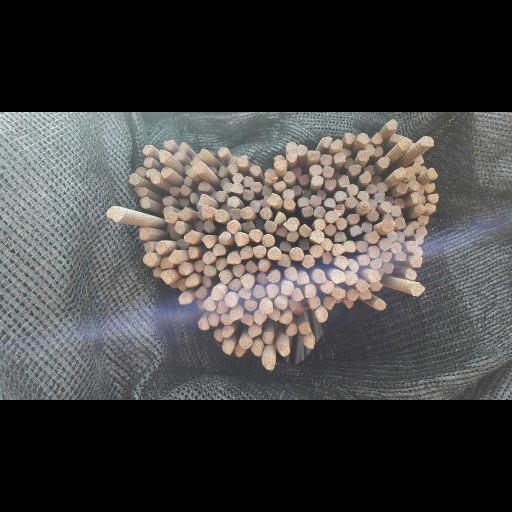dipstick: (287, 332, 304, 361), (407, 304, 425, 328), (261, 432, 275, 461), (314, 346, 329, 373), (234, 213, 249, 239), (289, 239, 304, 265), (258, 333, 273, 359), (310, 209, 325, 235), (283, 186, 299, 210), (220, 404, 234, 431), (303, 304, 317, 331), (344, 281, 358, 308), (252, 352, 267, 377), (106, 168, 120, 194), (280, 300, 293, 328), (320, 297, 333, 325), (347, 259, 360, 287), (261, 216, 276, 240), (273, 328, 288, 352), (311, 280, 326, 304), (330, 280, 345, 304), (330, 234, 346, 256), (239, 289, 252, 316), (267, 239, 281, 264), (239, 239, 253, 264), (142, 250, 156, 275), (301, 254, 315, 279), (334, 255, 348, 280), (276, 252, 291, 275), (310, 234, 325, 257), (378, 224, 393, 247), (168, 245, 181, 271), (218, 280, 231, 306), (210, 310, 223, 336), (277, 411, 290, 437), (284, 274, 297, 300), (252, 237, 266, 261), (298, 372, 312, 396), (419, 42, 435, 63), (397, 46, 412, 68), (157, 66, 170, 91), (231, 269, 244, 294), (279, 355, 292, 380), (266, 306, 279, 331), (297, 284, 310, 309), (385, 10, 398, 35), (299, 197, 311, 224), (185, 289, 199, 312), (240, 357, 254, 380), (355, 297, 369, 320), (404, 277, 418, 300), (264, 191, 277, 215), (249, 208, 262, 232), (285, 376, 298, 400), (323, 326, 335, 352), (335, 185, 347, 211), (200, 167, 214, 189), (178, 170, 192, 192), (223, 323, 237, 345), (251, 308, 265, 330), (184, 211, 196, 236), (201, 217, 213, 242), (257, 260, 269, 285), (197, 364, 209, 389), (262, 389, 274, 414), (303, 396, 315, 421), (259, 168, 272, 191), (202, 247, 215, 270), (178, 266, 191, 289), (202, 271, 215, 294), (245, 264, 258, 287), (256, 283, 269, 306), (268, 281, 281, 304), (297, 224, 310, 247), (308, 326, 321, 349), (320, 248, 333, 271), (322, 95, 335, 118), (347, 313, 360, 336), (241, 192, 255, 213), (227, 249, 241, 270), (178, 322, 192, 343), (247, 381, 261, 402), (332, 311, 346, 332), (325, 175, 339, 196), (333, 139, 347, 160), (329, 48, 343, 69), (358, 105, 372, 126), (379, 158, 393, 179), (367, 281, 381, 302), (390, 36, 407, 53), (226, 192, 238, 216), (274, 176, 286, 200), (213, 232, 225, 256), (244, 332, 256, 356), (227, 148, 240, 170), (218, 211, 231, 233), (230, 350, 243, 372), (269, 348, 280, 374), (367, 236, 380, 258), (133, 131, 147, 151), (159, 259, 173, 279), (209, 355, 219, 383), (357, 252, 371, 272), (160, 96, 172, 119), (214, 172, 226, 195), (203, 191, 215, 214), (155, 228, 167, 251), (159, 283, 171, 306), (215, 259, 227, 282), (201, 288, 213, 311), (203, 332, 215, 355), (321, 224, 333, 247), (394, 185, 406, 208), (344, 228, 356, 251), (213, 384, 224, 409), (251, 409, 262, 434), (320, 42, 331, 67), (128, 107, 141, 128), (279, 227, 292, 248), (228, 296, 241, 317), (238, 313, 251, 334), (334, 210, 347, 231), (312, 167, 325, 188), (320, 73, 333, 94), (345, 127, 358, 148), (365, 173, 378, 194), (402, 200, 415, 221), (409, 256, 422, 277), (273, 85, 288, 103), (272, 122, 286, 141), (249, 156, 261, 178), (174, 193, 185, 217), (286, 209, 298, 231), (234, 414, 246, 436), (292, 312, 303, 336), (324, 197, 336, 219), (310, 92, 322, 114), (393, 96, 405, 118), (367, 210, 379, 232), (379, 246, 391, 268), (162, 48, 175, 68), (324, 119, 337, 139), (307, 67, 320, 87), (356, 36, 369, 56), (377, 80, 390, 100), (413, 163, 426, 183), (347, 180, 360, 200), (369, 259, 382, 279), (373, 333, 386, 353), (222, 378, 233, 401), (142, 56, 154, 77), (161, 147, 175, 165), (138, 205, 150, 226), (177, 224, 189, 245), (275, 201, 287, 222), (220, 357, 232, 378), (239, 400, 251, 421), (301, 167, 313, 188), (298, 109, 310, 130), (323, 152, 335, 173), (426, 97, 438, 118), (407, 120, 419, 141), (409, 142, 421, 163), (376, 122, 388, 143), (361, 193, 373, 214), (405, 228, 417, 249), (369, 302, 383, 320), (360, 313, 372, 334), (241, 137, 254, 156), (164, 177, 177, 196), (313, 189, 326, 208), (309, 148, 322, 167), (334, 70, 347, 89), (348, 93, 361, 112), (139, 150, 150, 172), (249, 91, 260, 113), (268, 144, 279, 166), (230, 170, 241, 192), (176, 296, 187, 318), (216, 336, 227, 358), (358, 66, 369, 88), (356, 227, 367, 249), (188, 237, 198, 261), (338, 112, 350, 132), (396, 124, 408, 144), (425, 160, 437, 180), (349, 200, 361, 220), (382, 267, 394, 287), (264, 108, 277, 126), (343, 80, 356, 98), (393, 152, 406, 170), (381, 193, 394, 211), (150, 107, 161, 128), (231, 125, 242, 146), (283, 104, 294, 125), (372, 36, 383, 57), (364, 56, 375, 77), (391, 231, 402, 252), (199, 144, 209, 167), (255, 188, 265, 211), (334, 161, 344, 184), (172, 67, 184, 86), (134, 96, 146, 115), (193, 88, 205, 107), (198, 122, 210, 141), (232, 106, 244, 125), (194, 311, 206, 330), (283, 153, 295, 172), (286, 69, 298, 88), (290, 129, 302, 148), (311, 113, 323, 132), (359, 157, 371, 176), (346, 148, 358, 167), (416, 202, 428, 221), (395, 246, 407, 265), (169, 209, 182, 226), (417, 183, 430, 200), (261, 129, 272, 149), (344, 36, 355, 56), (142, 230, 154, 248), (243, 112, 253, 133), (250, 123, 260, 144), (193, 192, 203, 213), (373, 59, 383, 80), (396, 212, 406, 233), (413, 215, 423, 236), (179, 128, 190, 147), (237, 78, 248, 97), (152, 275, 163, 294), (424, 125, 435, 144), (177, 151, 189, 168), (297, 151, 309, 168), (282, 136, 294, 153), (290, 97, 302, 114), (357, 139, 369, 156), (183, 112, 193, 132), (228, 91, 238, 111), (193, 266, 203, 286), (387, 209, 397, 229), (143, 79, 154, 97), (198, 65, 209, 83), (218, 62, 229, 80), (370, 110, 381, 128), (427, 143, 438, 161), (374, 142, 385, 160), (145, 98, 157, 114), (168, 131, 180, 147), (217, 95, 227, 114), (297, 57, 307, 76), (189, 142, 198, 163), (404, 97, 413, 118), (416, 74, 425, 95), (364, 93, 375, 110), (366, 127, 377, 144), (343, 332, 354, 349), (417, 125, 425, 148), (178, 52, 187, 72), (216, 139, 225, 159), (286, 54, 298, 69), (302, 135, 312, 153), (317, 136, 326, 156), (369, 154, 378, 174), (391, 166, 401, 184), (260, 152, 271, 168), (414, 238, 423, 257), (165, 197, 175, 214), (385, 147, 395, 164), (220, 161, 231, 176), (219, 114, 228, 132), (334, 325, 343, 343), (186, 98, 196, 114), (195, 330, 203, 350), (341, 64, 351, 80), (412, 89, 420, 109), (196, 176, 205, 193), (223, 124, 231, 143), (419, 145, 427, 164), (191, 80, 201, 95), (168, 297, 177, 313), (381, 181, 393, 193), (161, 167, 174, 178), (183, 92, 191, 109), (411, 192, 419, 209), (264, 99, 275, 111), (273, 75, 285, 86), (228, 80, 238, 93), (218, 201, 226, 217), (334, 105, 343, 119), (377, 276, 384, 294), (209, 140, 217, 155), (208, 95, 216, 109)
